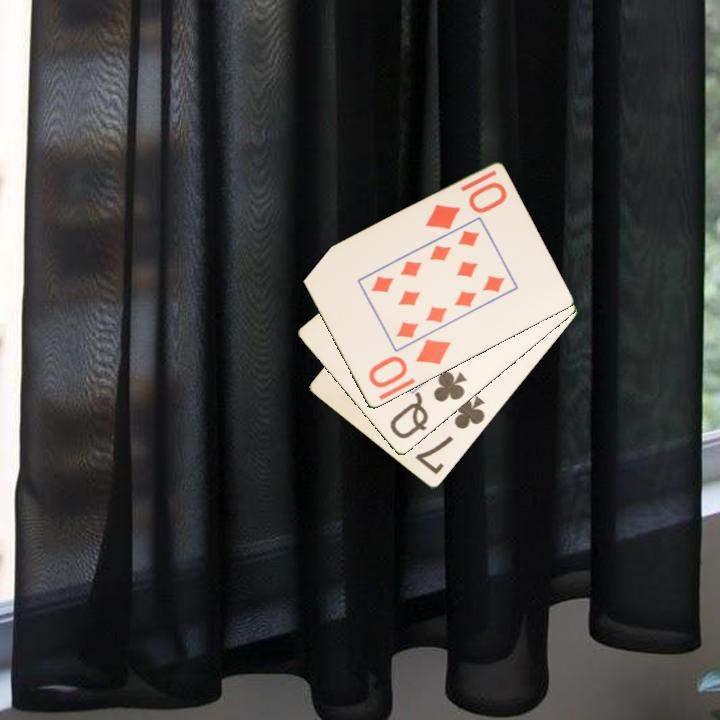10d: (365, 336, 454, 392), (421, 179, 510, 233)
7c: (412, 392, 488, 478)
Qc: (386, 368, 470, 442)
